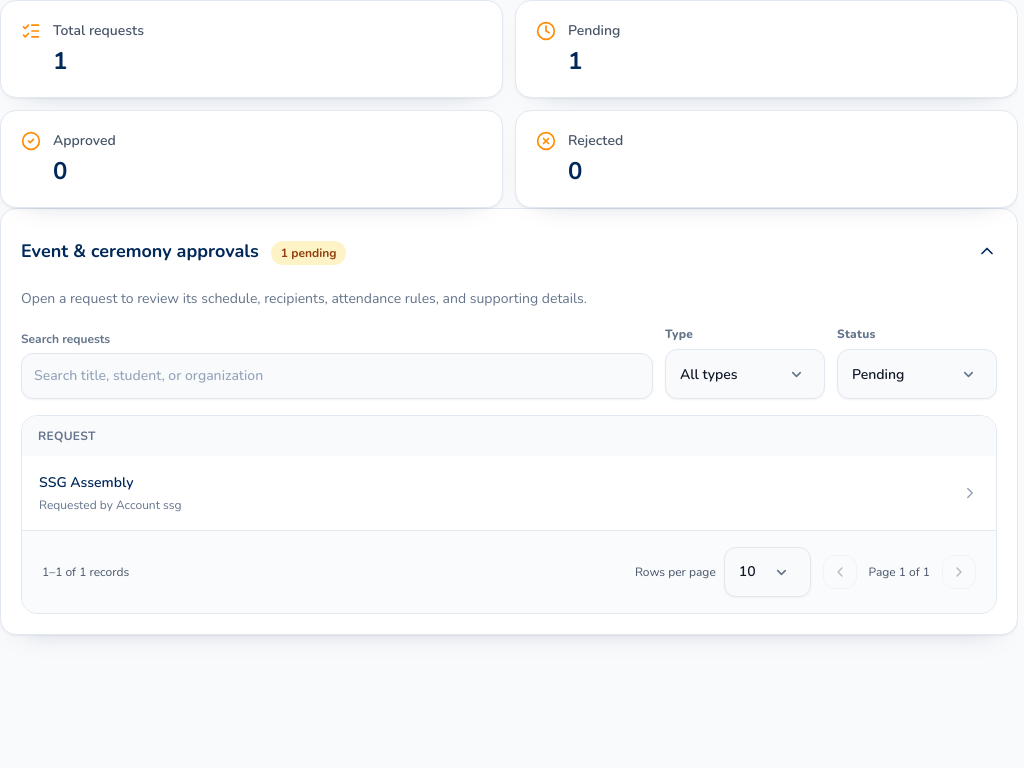
Activity approval workflow › shows review errors and keeps the request open
Click the button "SSG Assembly Requested by Account ssg" at [86, 482], box [23,457,995,529]
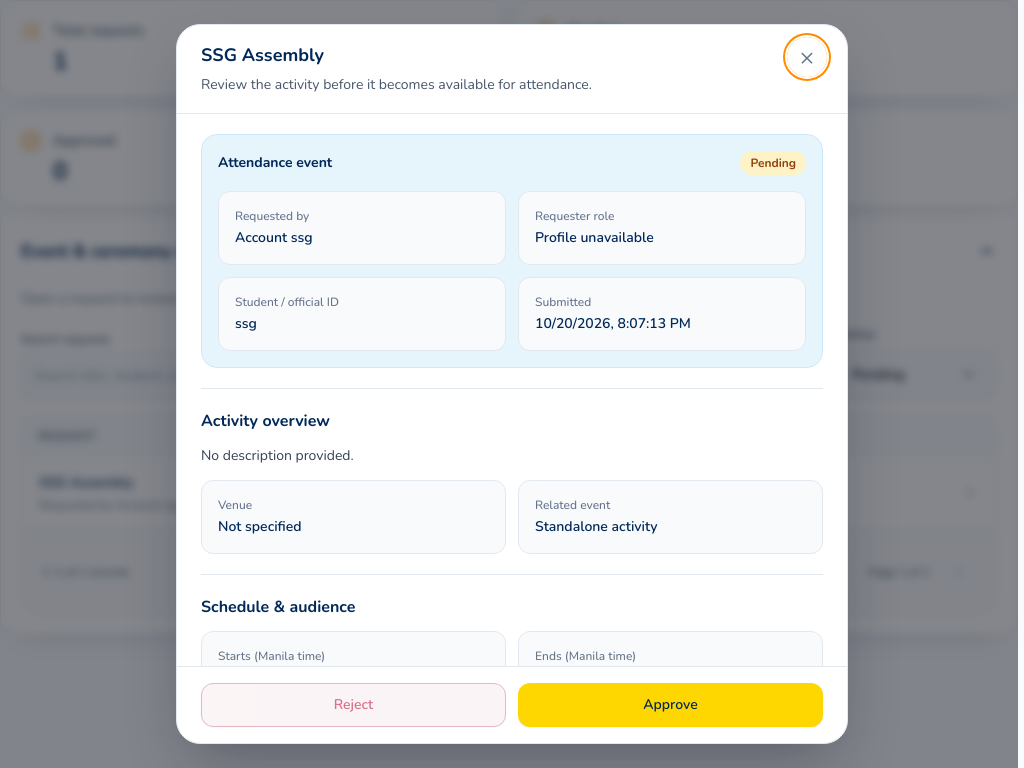
Click the button "Approve" at [670, 705], box [518,683,823,727]
(page scrolled)
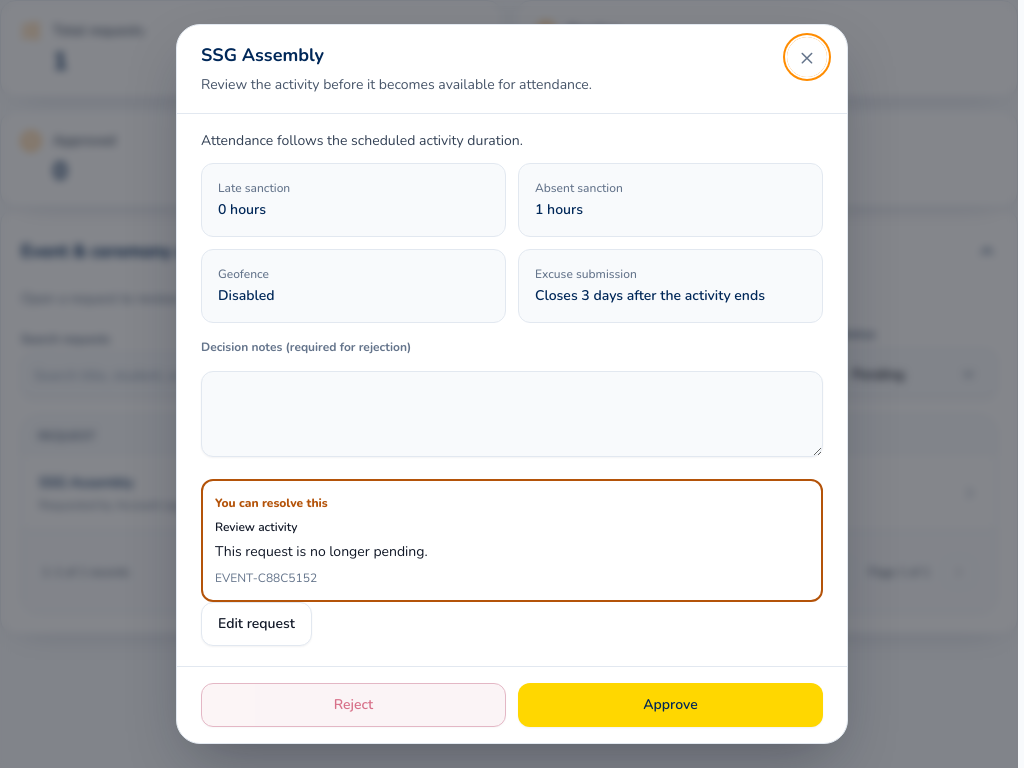
Expected: the message shows "This request is no longer pending.", [215,542,428,561]
